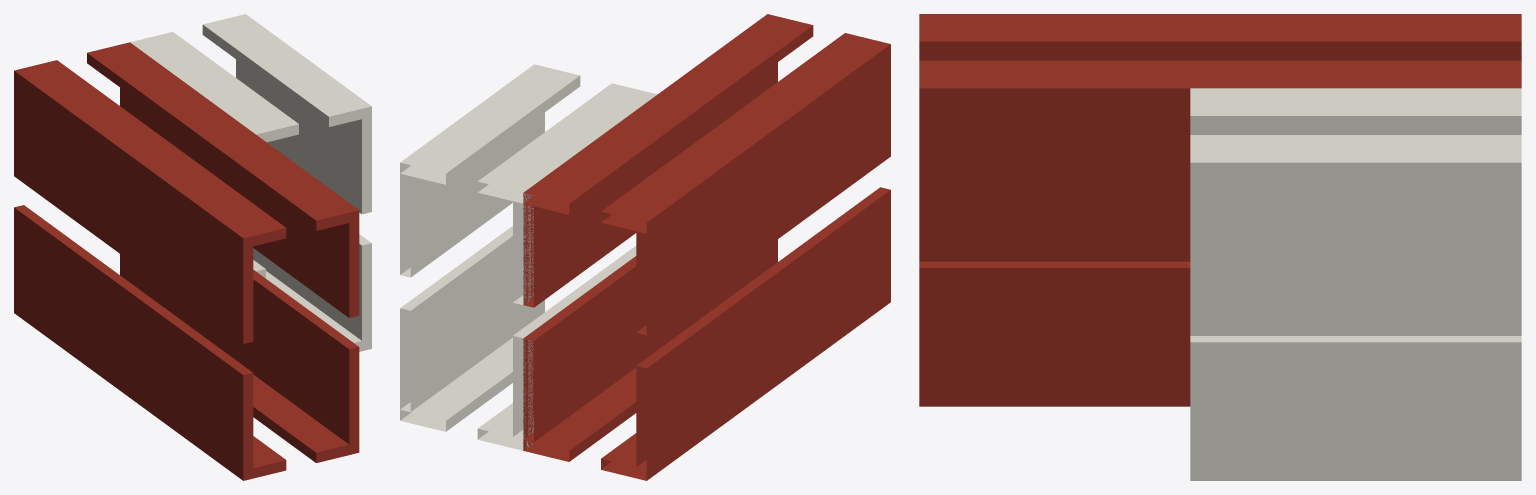
Rendered from construction_1.glb.
3 views of the same model, side by side, from view 1: azimuth 30°, elevation 25°; view 2: azimuth 150°, elevation 25°; view 3: azimuth 270°, elevation 25° (orthographic). The views are drawn at different scales.
Visible parts, largest first — view 1: construction_1; view 2: construction_1; view 3: construction_1.
Boxes of the visible parts, <box> form: construction_1: <box>14,14,371,480</box>; construction_1: <box>400,14,890,480</box>; construction_1: <box>919,14,1521,480</box>.
Bounding box in the file's own units: 14 × 14 × 24.
